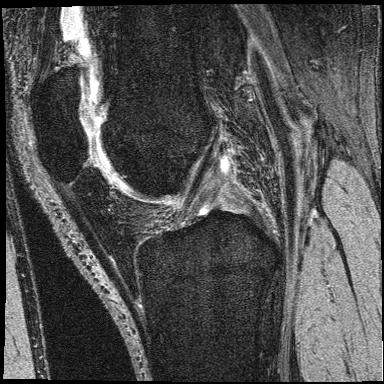SagKneeJointArea: (29, 65, 280, 335)
